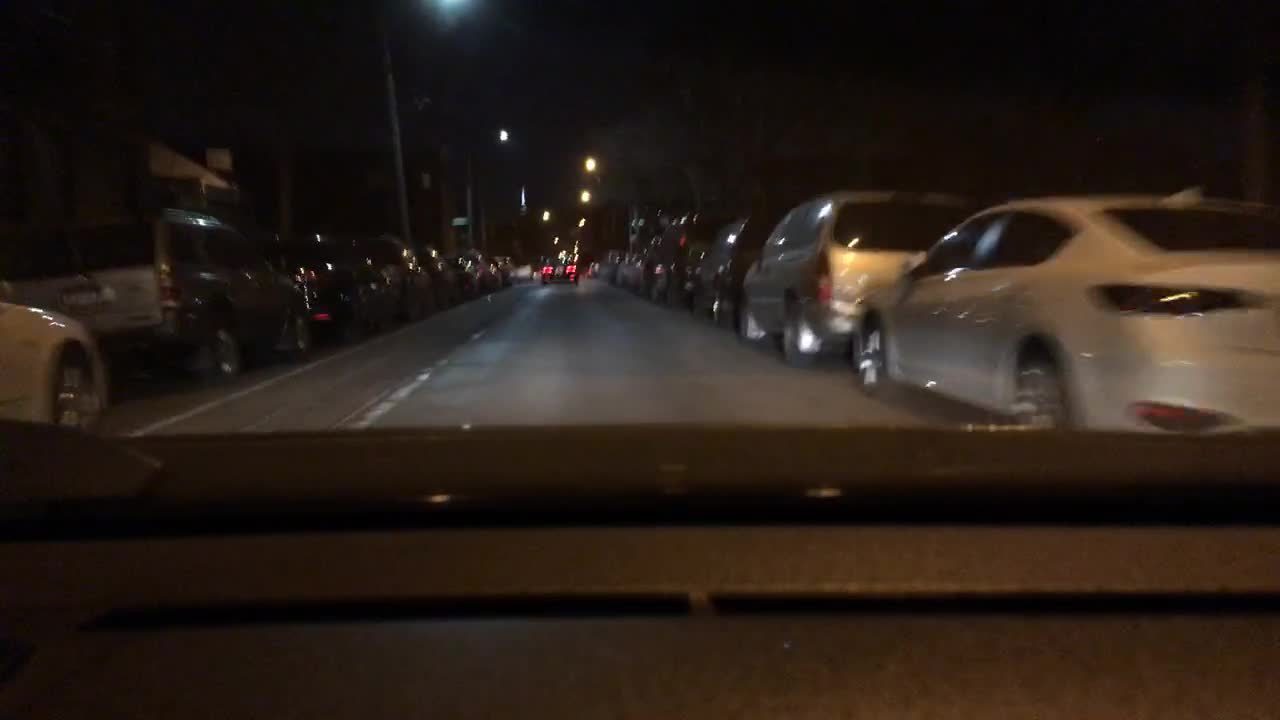car: (849, 182, 1277, 432), (0, 207, 313, 383), (739, 186, 970, 369), (1, 299, 115, 429), (286, 230, 408, 342), (686, 209, 774, 325), (651, 204, 732, 307), (364, 230, 435, 320), (416, 244, 459, 305), (615, 245, 647, 290), (445, 254, 478, 297), (641, 239, 664, 297), (542, 254, 578, 285), (597, 248, 625, 287), (468, 248, 494, 289), (490, 254, 514, 281), (515, 257, 536, 281), (583, 259, 599, 279)
traffic sign: (451, 216, 468, 227)
